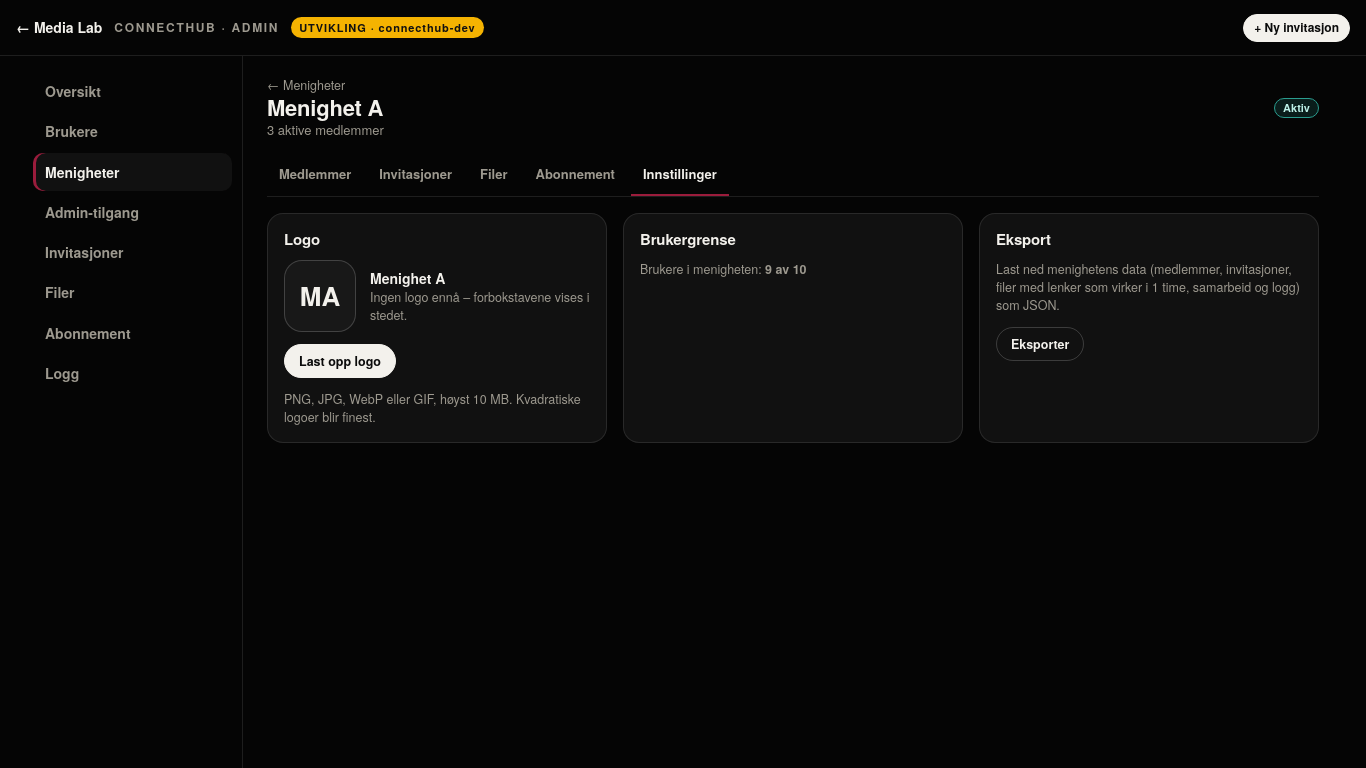
Test: Brukergrense › databasen avviser likevel (f.eks. samtidig invitasjon): tydelig melding
Check: the text "Brukere i menigheten: 9 av 10" is shown, box [640,260,807,278]
Click the button "+ Ny invitasjon": (1297, 28) [1243,14,1350,42]
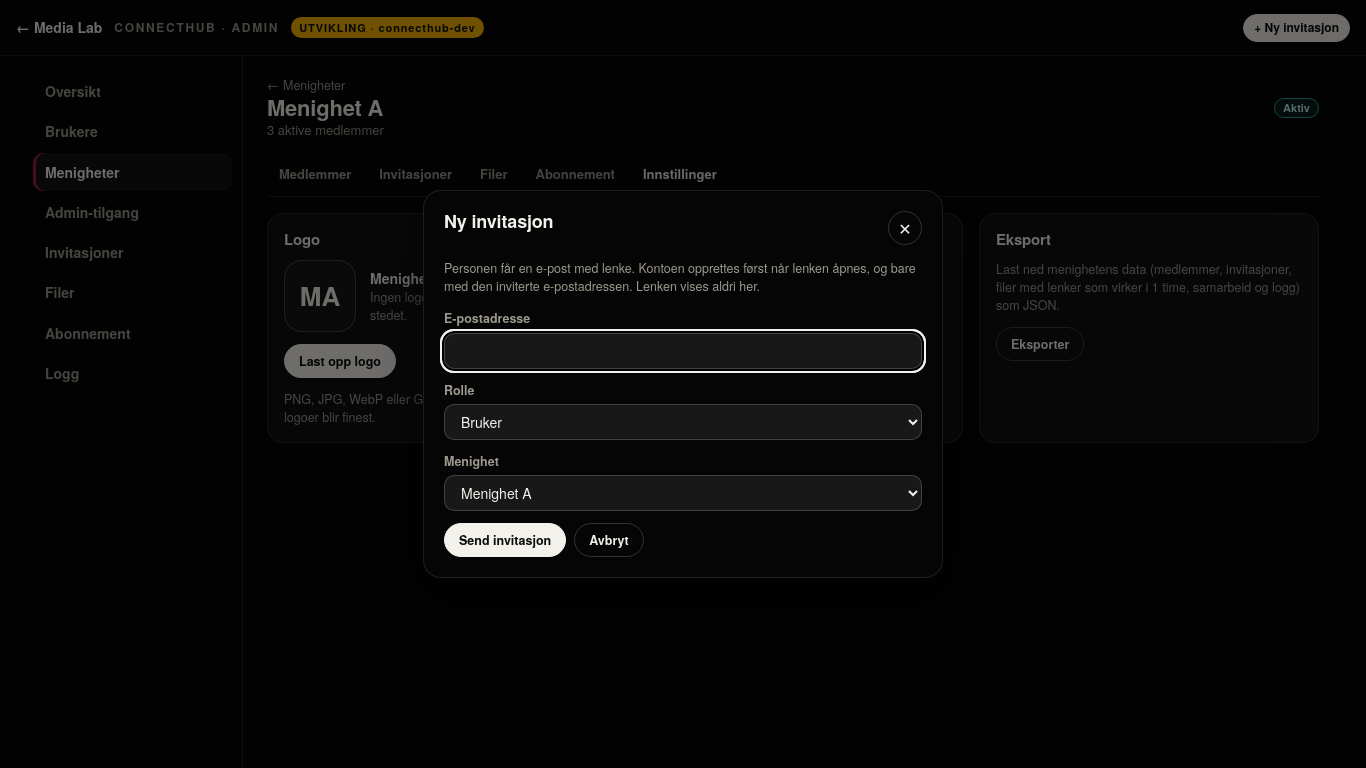
In the field labelled "E-postadresse": (683, 351) [444,333,922,369], type "nr11@b.no"
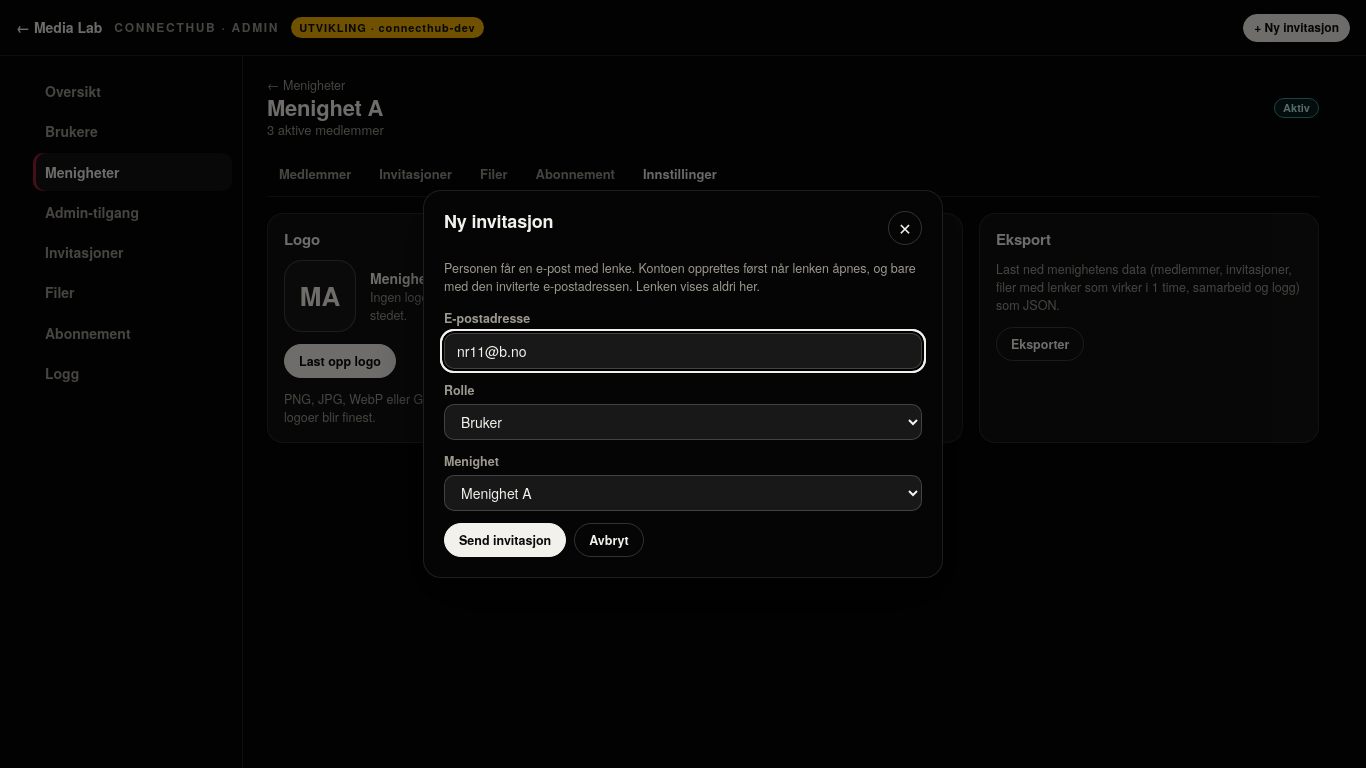
Check: the button "Send invitasjon" is enabled
Click the button "Send invitasjon": (505, 540) [444,523,566,557]
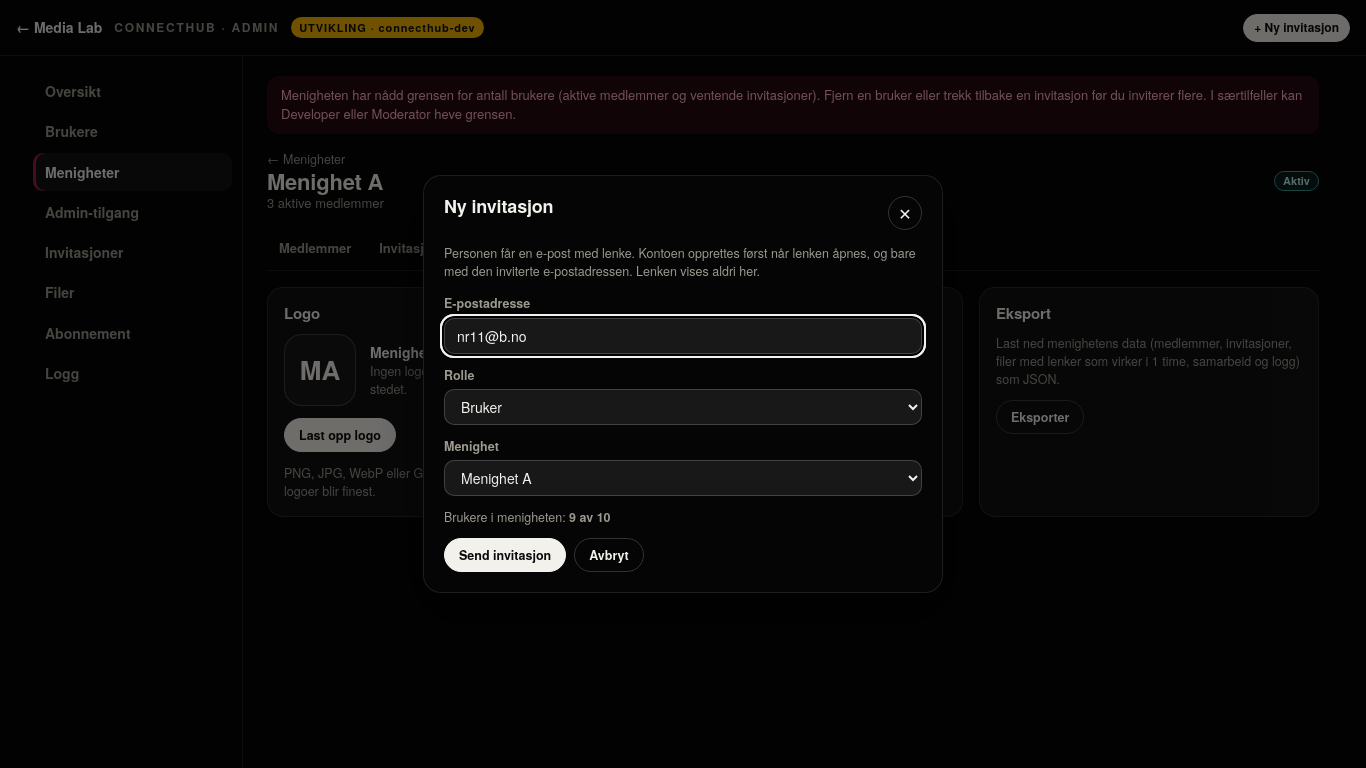
Check: the text "har nådd grensen for antall brukere" shows "trekk tilbake en invitasjon", box [281,85,1302,123]
